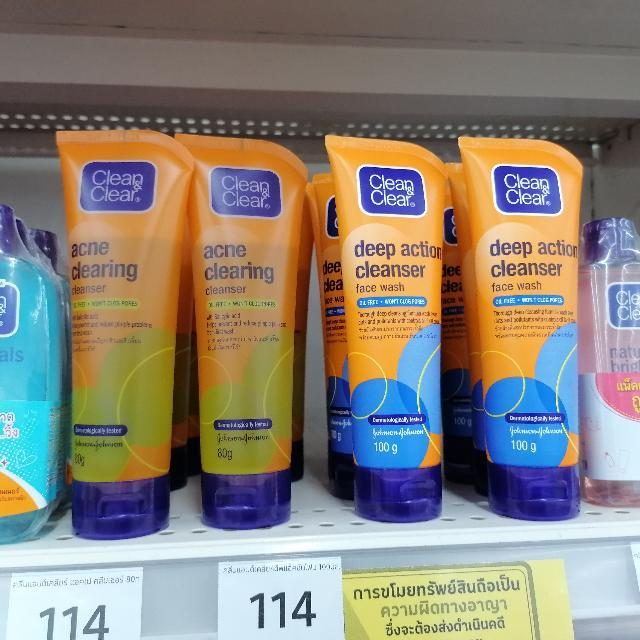Squeeze Tube: (59, 132, 197, 532), (454, 128, 584, 524), (189, 133, 311, 531), (329, 140, 445, 513)
